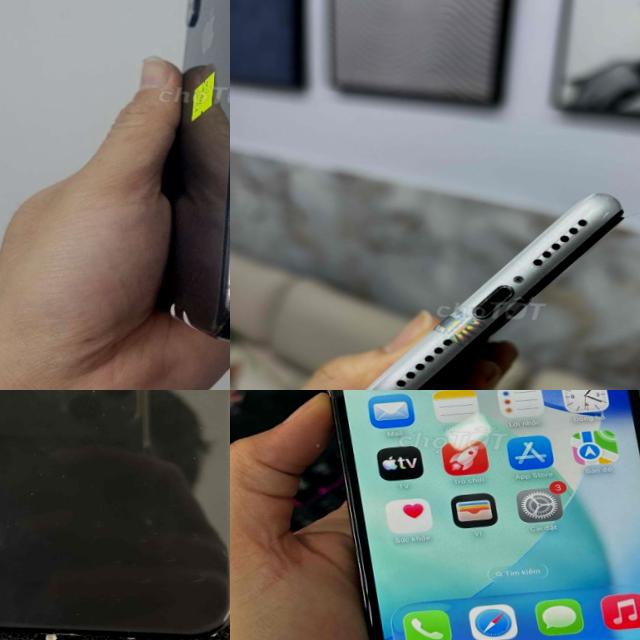scratch: (0, 559, 59, 633), (572, 193, 621, 220), (220, 203, 230, 237)
